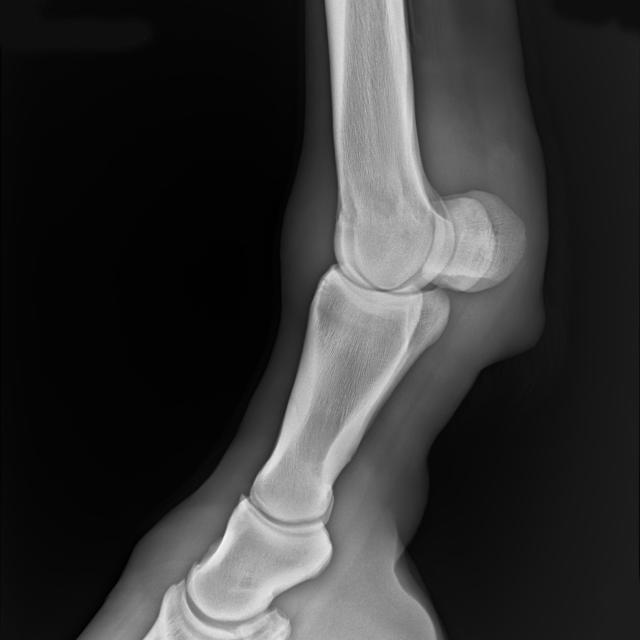joint-ht8A: (275, 135, 552, 364)
